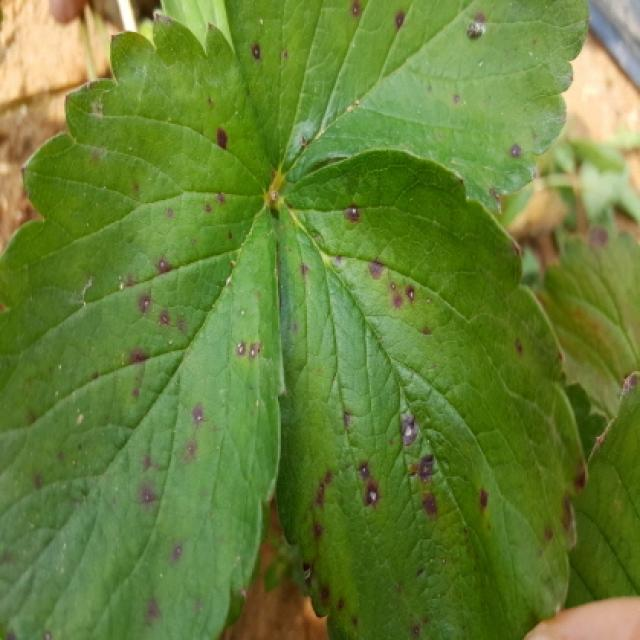Leaf Spot: (2, 8, 285, 638), (274, 148, 588, 638), (223, 0, 589, 222)
